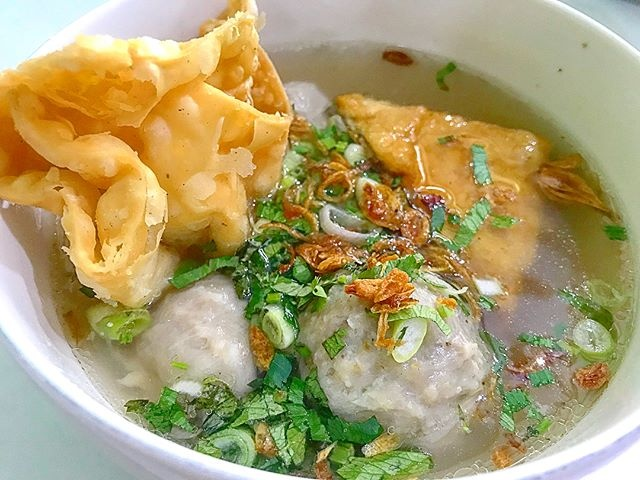bakso_malang: (4, 1, 640, 479)
